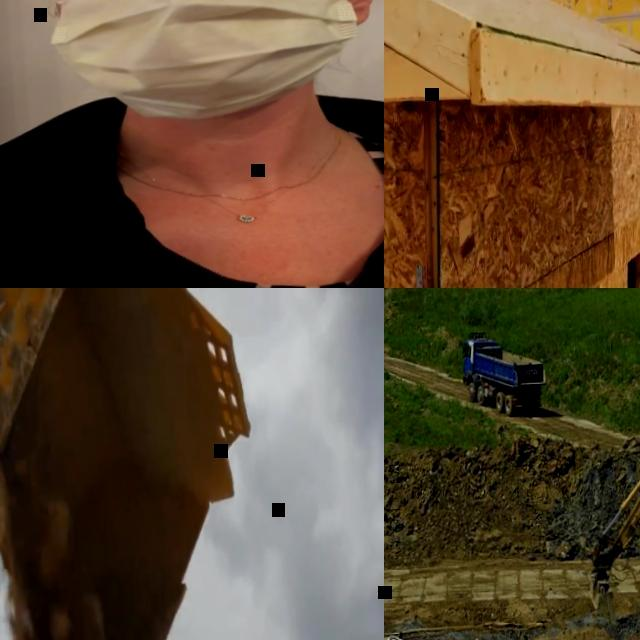machinery: (0, 288, 261, 640), (459, 326, 547, 416)
mask: (47, 0, 359, 124)
no_vest: (0, 123, 384, 288)
person: (0, 0, 384, 288)
